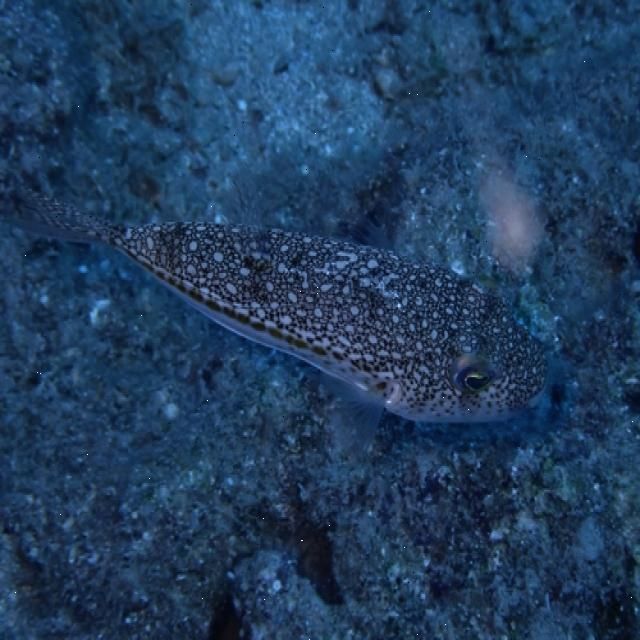Balik: (15, 192, 546, 440)
